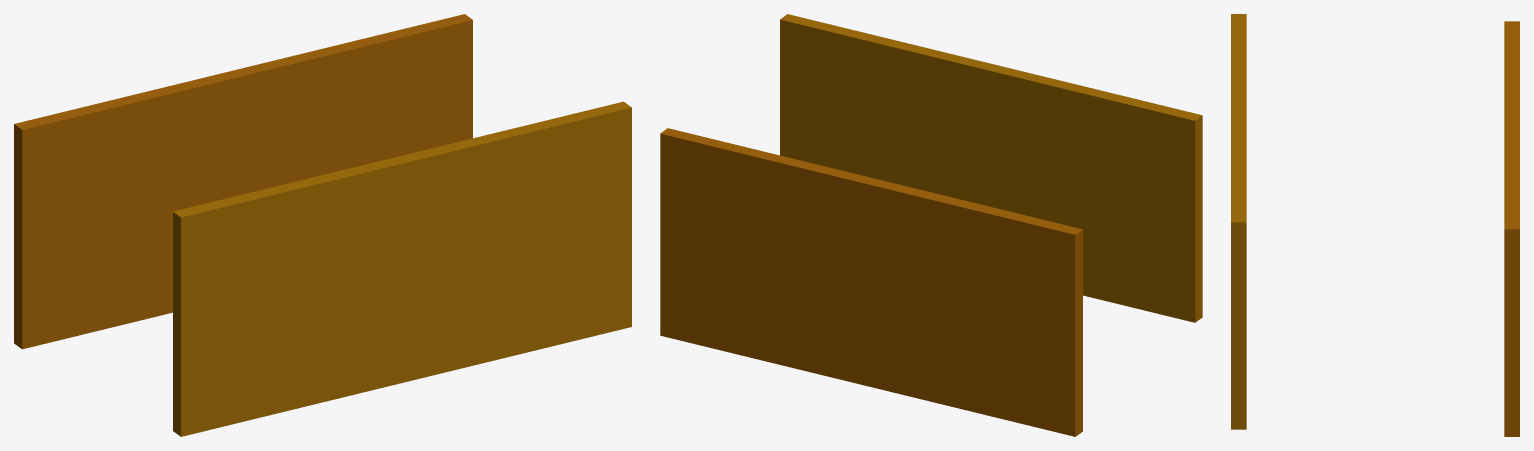
The model's file is struct.obj.
3 views of the same model, side by side, from view 1: azimuth 30°, elevation 25°; view 2: azimuth 150°, elevation 25°; view 3: azimuth 270°, elevation 25° (orthographic). The views are drawn at different scales.
Parts seen in each view (by area): view 1: Cube.001; view 2: Cube.001; view 3: Cube.001.
Boxes of the visible parts, x1=… form: Cube.001: x1=14, y1=14, x2=631, y2=436; Cube.001: x1=660, y1=14, x2=1202, y2=436; Cube.001: x1=1231, y1=14, x2=1519, y2=436.
Size of the model in its own units: 4.44 by 2.13 by 2.52.
